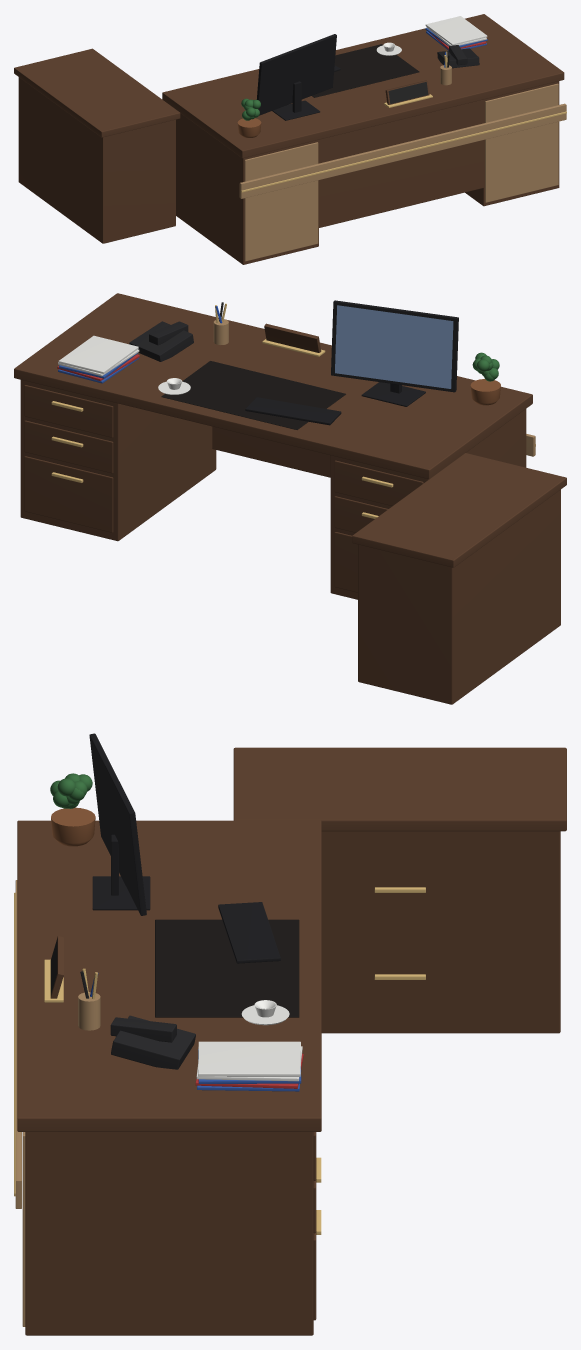
File: bgd_ban.glb
The picture shows the model from 3 angles, top to bottom: view 1: azimuth 30°, elevation 25°; view 2: azimuth 150°, elevation 25°; view 3: azimuth 270°, elevation 25°; orthographic projection. The views are drawn at different scales.
Parts seen in each view (by area): view 1: bgd_ban; view 2: bgd_ban; view 3: bgd_ban.
Boxes of the visible parts, x1,y1,x2,y2 form: bgd_ban: (14, 14, 566, 264); bgd_ban: (14, 293, 566, 704); bgd_ban: (14, 733, 566, 1335).
Size of the model in its own units: 2.78 by 1.18 by 1.72.
